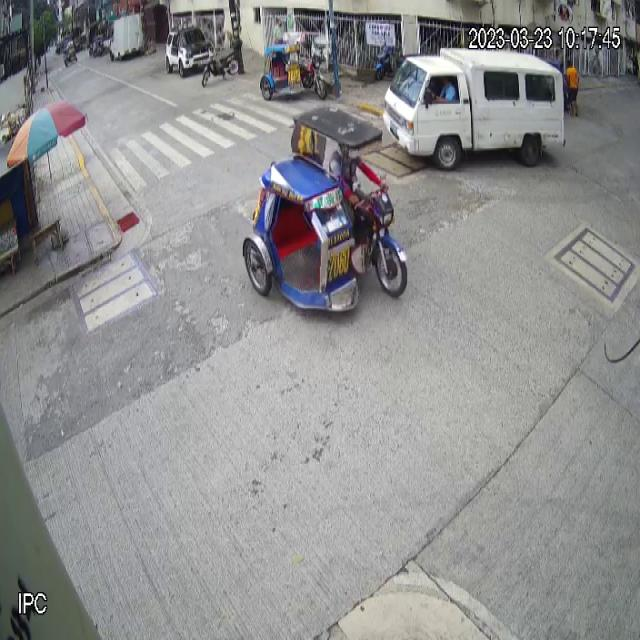Tricycle: (242, 104, 408, 312), (260, 30, 326, 104)
Van: (384, 47, 566, 172)
